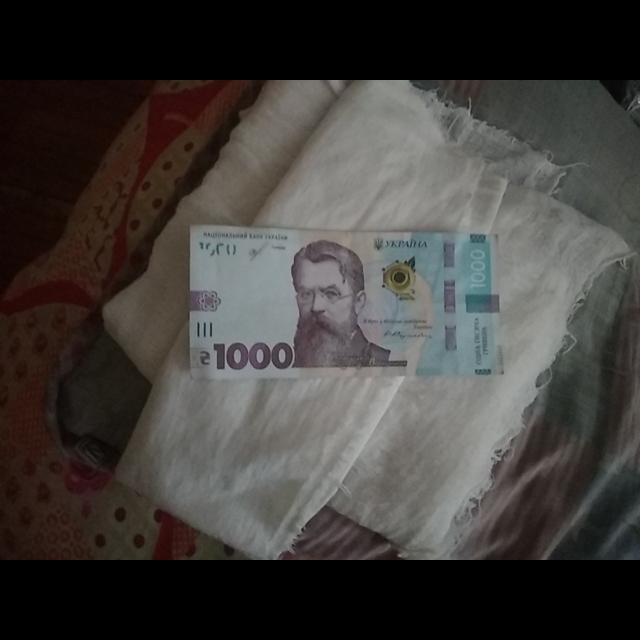1000uah: (187, 225, 506, 381)
